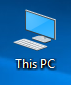pc: (9, 8, 58, 72)
